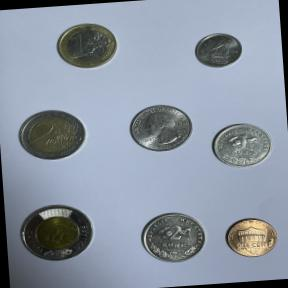coin: (16, 198, 100, 264), (14, 104, 92, 164), (122, 99, 199, 156), (136, 208, 210, 266), (50, 17, 122, 73), (220, 212, 285, 262), (189, 29, 248, 71)
